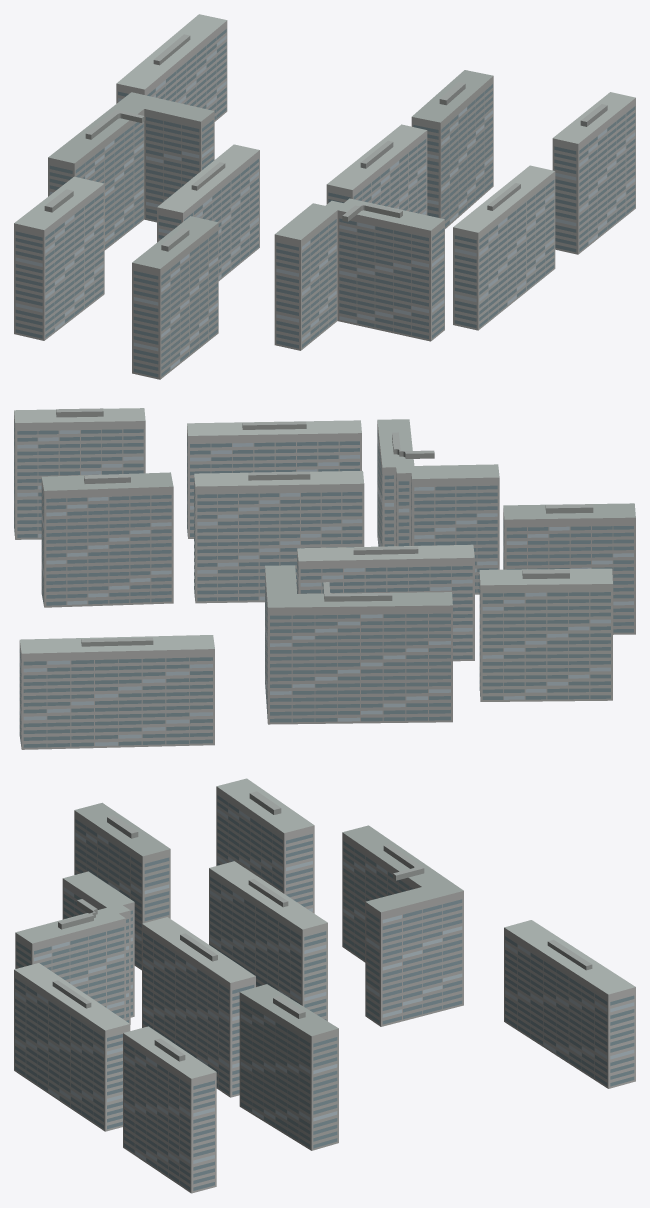
The model's file is apt-a13511003.glb.
3 views of the same model, one above another, from view 1: azimuth 30°, elevation 25°; view 2: azimuth 150°, elevation 25°; view 3: azimuth 270°, elevation 25° (orthographic). The views are drawn at different scales.
Visible parts, largest first — view 1: apt-a13511003; view 2: apt-a13511003; view 3: apt-a13511003.
Boxes of the visible parts, left/top/right/bottom form: apt-a13511003: left=14, top=14, right=635, bottom=379; apt-a13511003: left=14, top=408, right=635, bottom=749; apt-a13511003: left=14, top=778, right=635, bottom=1193.
Size of the model in its own units: 291 by 54.18 by 255.
